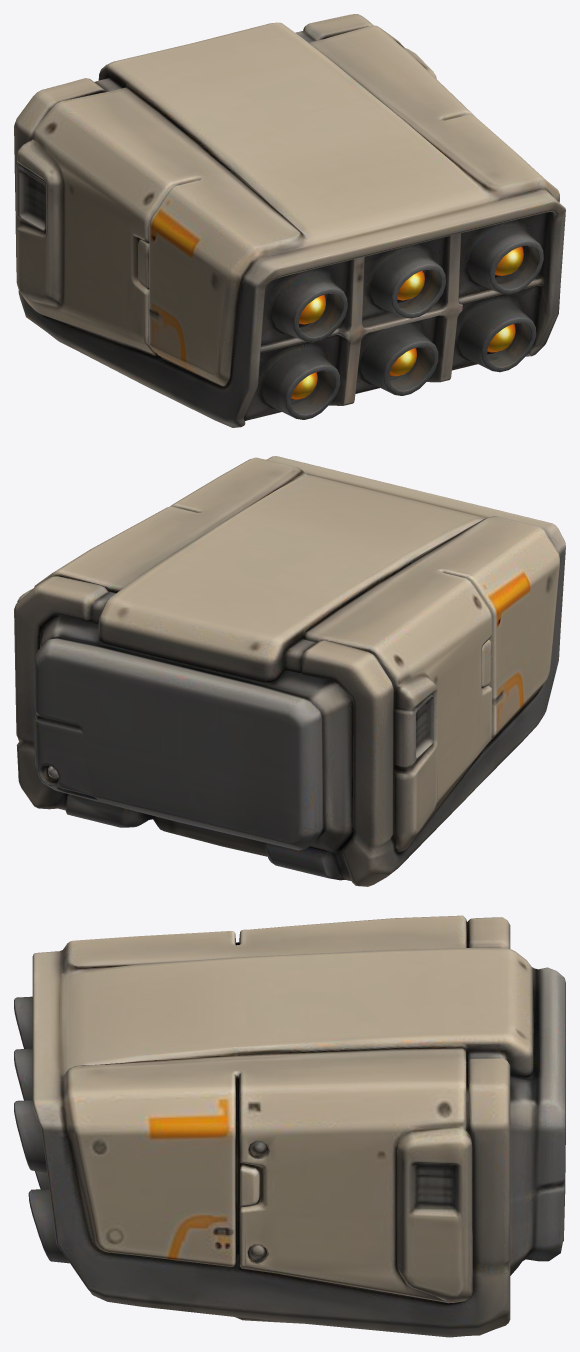
File: 05_Missile_Pod.glb
3 views of the same model, one above another, from view 1: azimuth 30°, elevation 25°; view 2: azimuth 150°, elevation 25°; view 3: azimuth 270°, elevation 25° (orthographic). The views are drawn at different scales.
Visible parts, largest first — view 1: 05_Missile_Pod; view 2: 05_Missile_Pod; view 3: 05_Missile_Pod.
Boxes of the visible parts, x1,y1,x2,y2 form: 05_Missile_Pod: (14, 14, 565, 427); 05_Missile_Pod: (14, 456, 565, 886); 05_Missile_Pod: (14, 915, 565, 1337).
Bounding box in the file's own units: 0.8999 × 0.5708 × 0.9995.
1 material, 1 textured.
